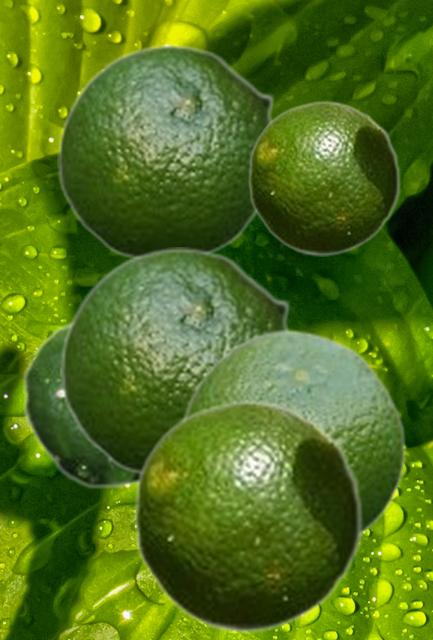calamansi: (132, 399, 363, 632), (60, 247, 291, 477), (177, 327, 406, 538), (57, 44, 275, 259), (247, 100, 400, 255), (22, 316, 136, 489)
